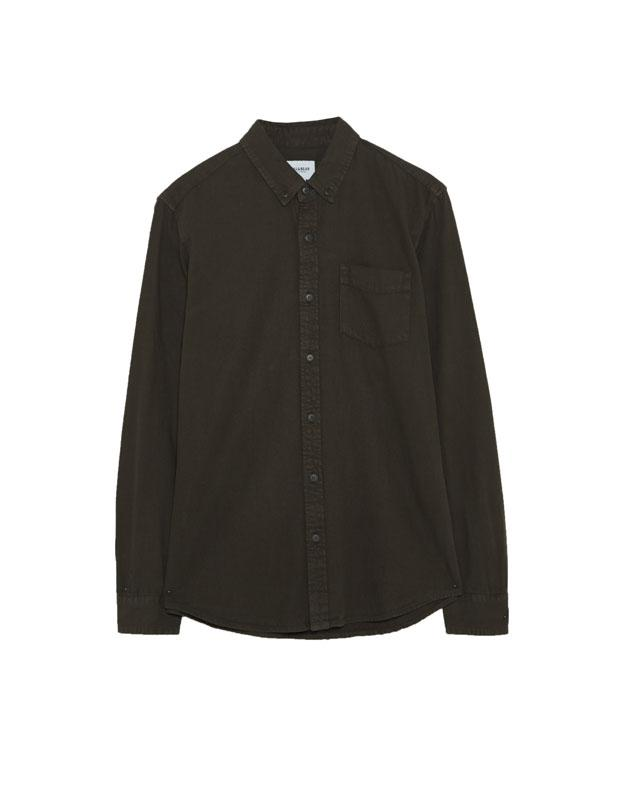teeshirt: (92, 113, 531, 676)
